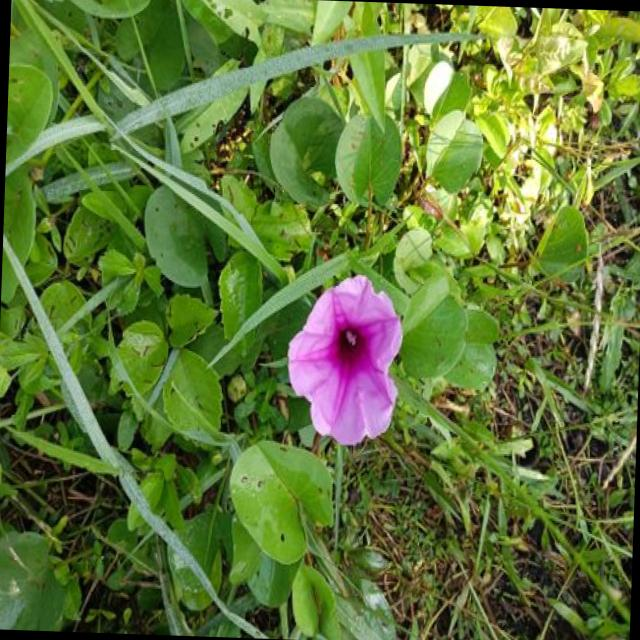ipomoea: (280, 269, 408, 452)
